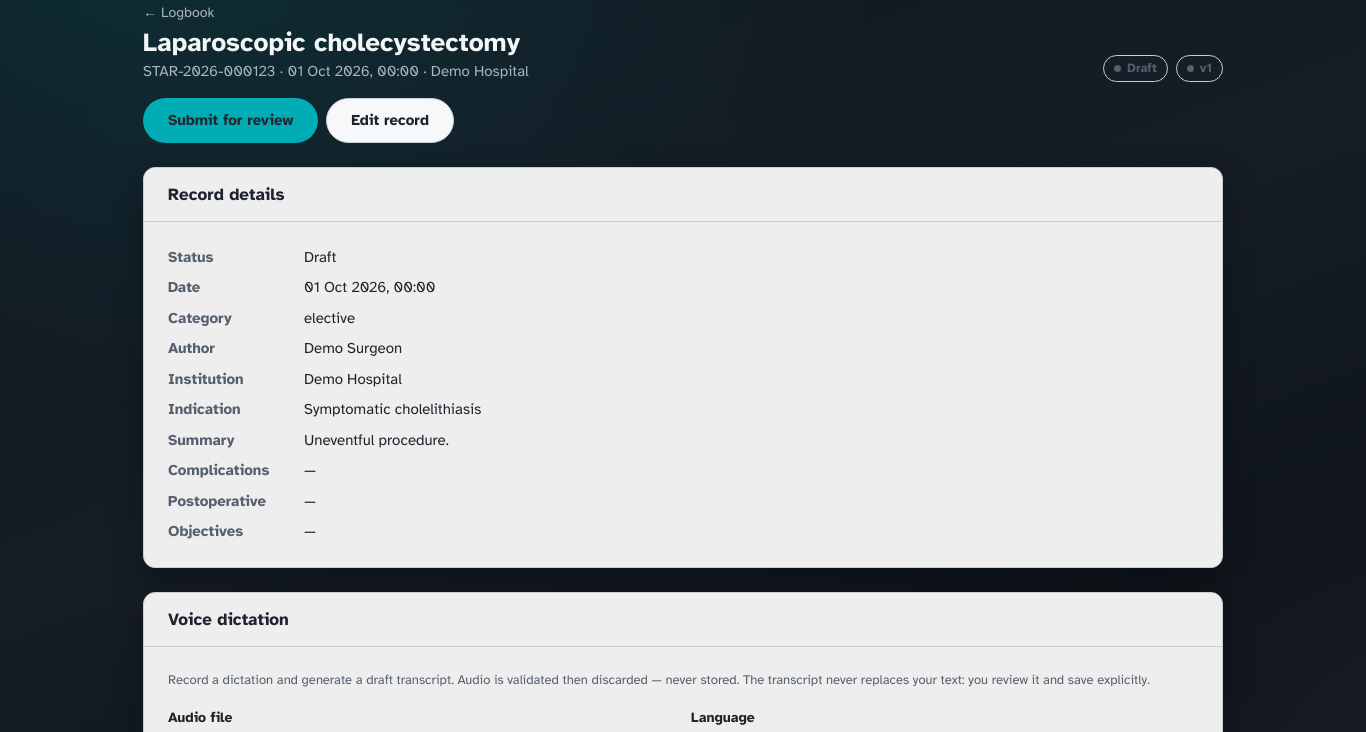
it: ProcedureDetailPage › lets the author submit a draft for review (scenario A)
The width and height of the screenshot is (1366, 732).
What coordinates should you click on to do the following:
click the button "Submit for review"
I would click on:
 (231, 120)
Its box is [143, 98, 318, 142].
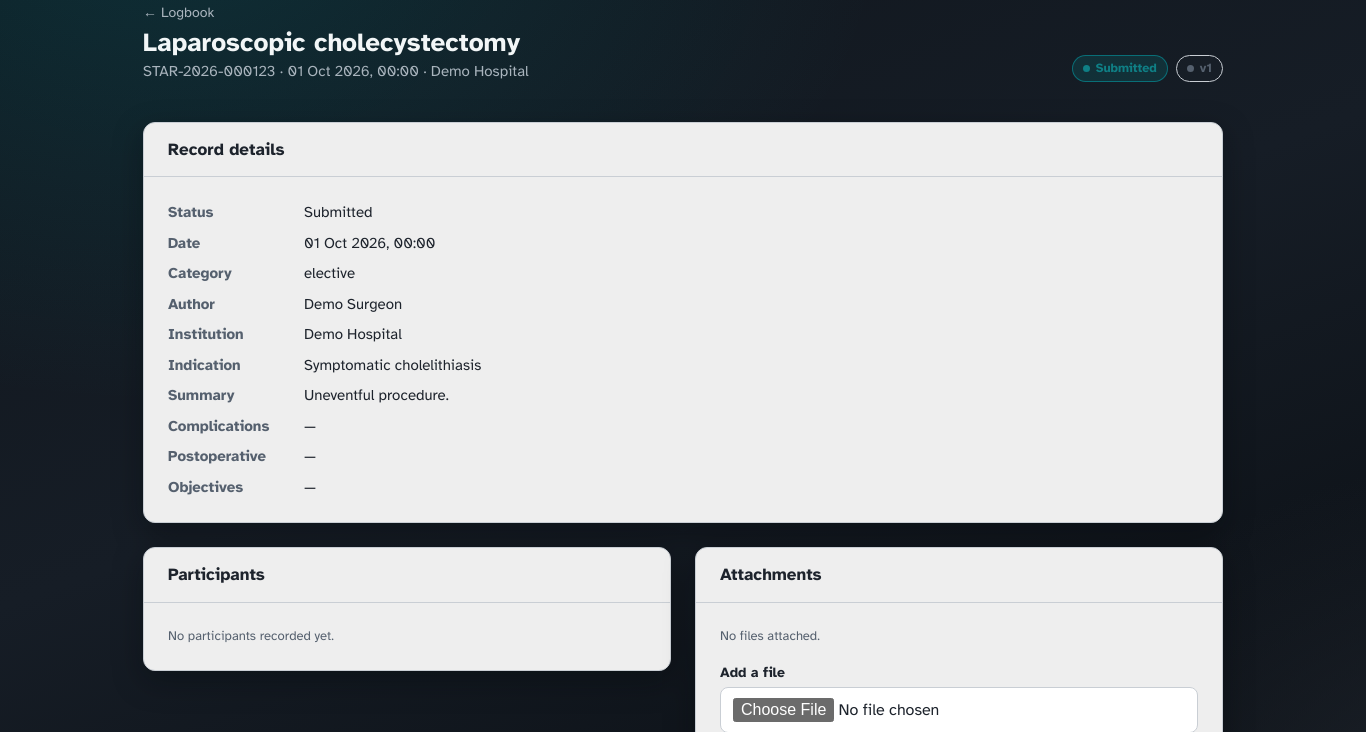
Expected: the text "Submitted" is shown 2 times, [1072, 55, 1168, 82]; [304, 203, 372, 221]
Result: the button "Submit for review" is gone
Result: the button "Edit record" is gone
